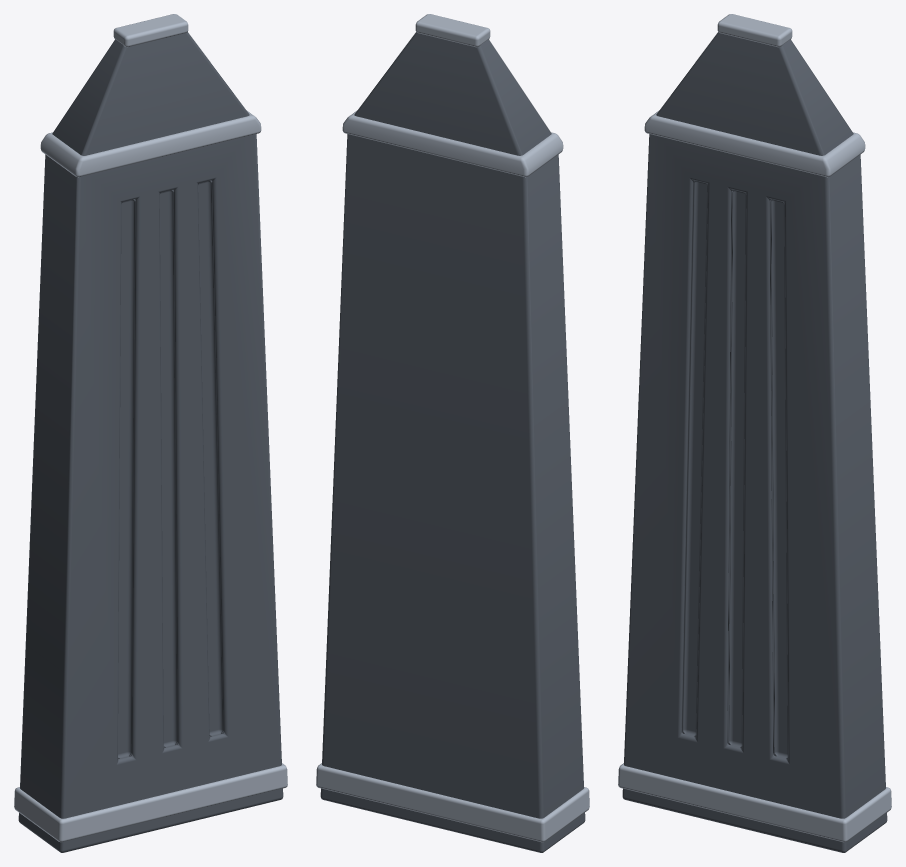
The model's file is monolith-spire.glb.
3 renders of one model, left to right at view 1: azimuth 30°, elevation 25°; view 2: azimuth 150°, elevation 25°; view 3: azimuth 330°, elevation 25°, orthographic.
Visible parts, largest first — view 1: monolith-spire-body, monolith-spire-steel; view 2: monolith-spire-body, monolith-spire-steel; view 3: monolith-spire-body, monolith-spire-steel.
Part boxes in pixels (x1,y1,x2,y2): monolith-spire-body: (18, 32, 283, 852); monolith-spire-steel: (14, 14, 287, 842); monolith-spire-body: (320, 32, 585, 852); monolith-spire-steel: (316, 14, 589, 842); monolith-spire-body: (622, 32, 887, 852); monolith-spire-steel: (618, 14, 891, 842).
Bounding box in the file's own units: 2.87 × 9.4 × 1.02.
